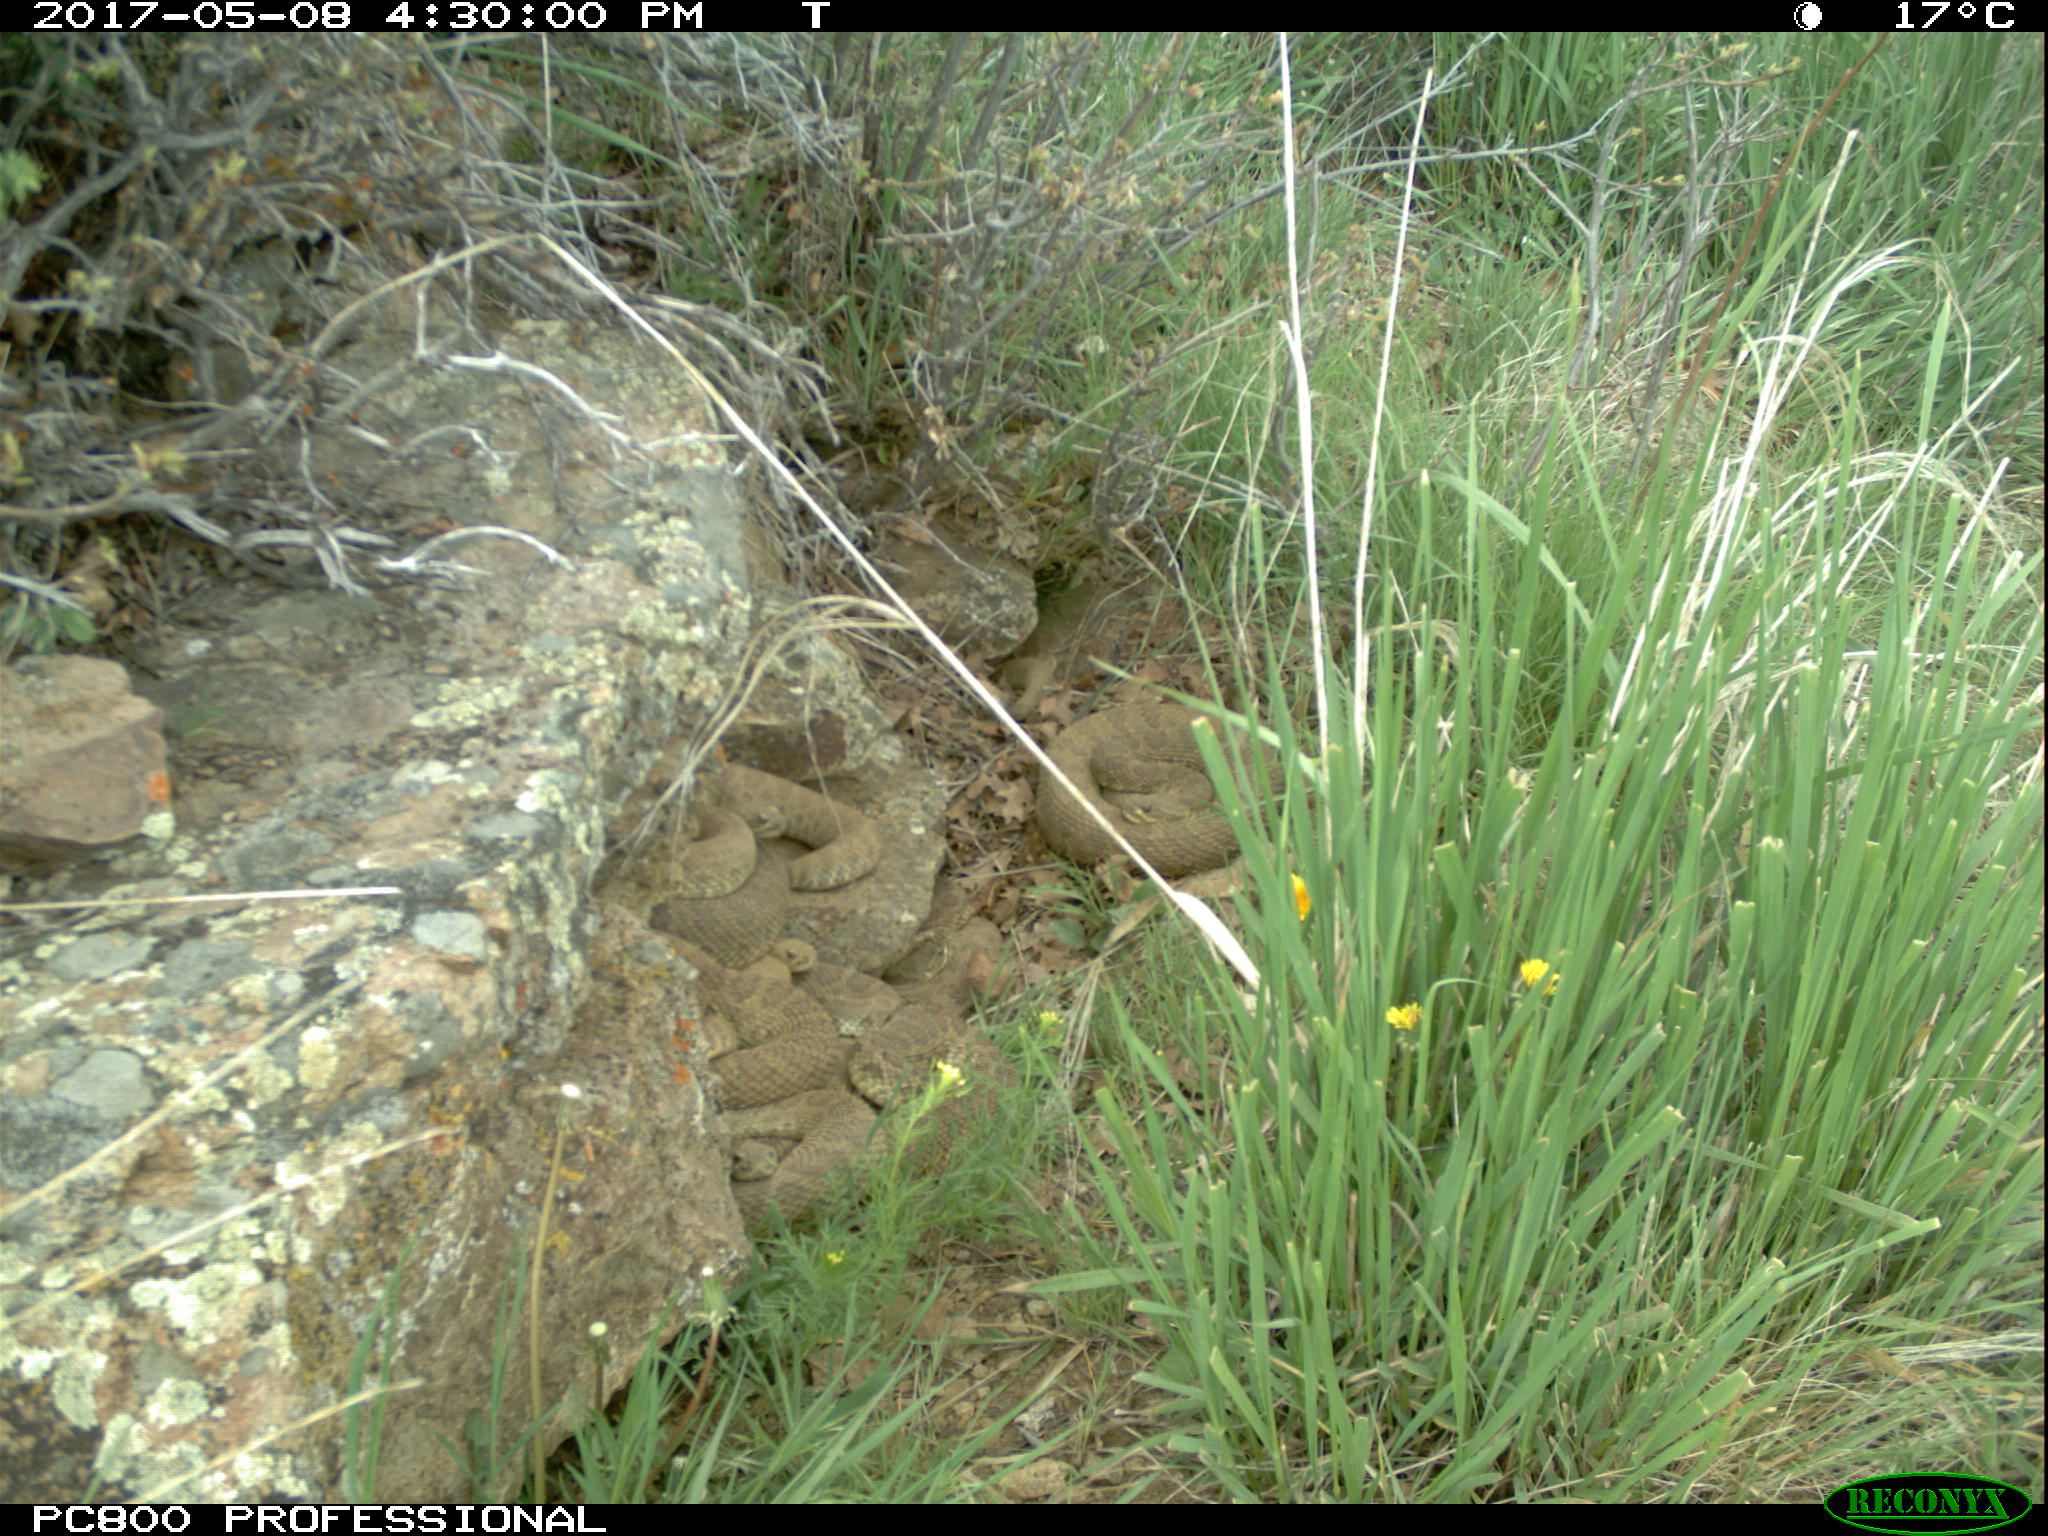snake: (668, 765, 880, 958), (1037, 699, 1268, 870), (845, 978, 1016, 1118), (708, 1096, 889, 1223), (690, 962, 847, 1105)
